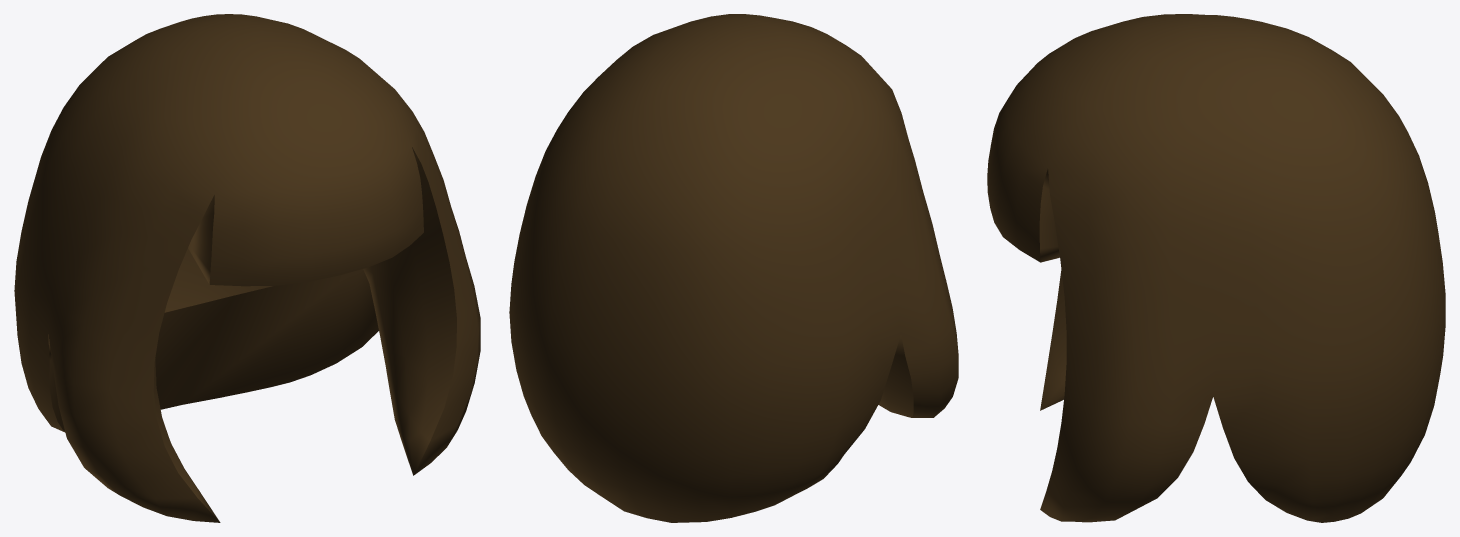
Rendered from hair_hair_083.gltf.
3 views of the same model, side by side, from view 1: azimuth 30°, elevation 25°; view 2: azimuth 150°, elevation 25°; view 3: azimuth 270°, elevation 25° (orthographic). The views are drawn at different scales.
Parts seen in each view (by area): view 1: hair.083; view 2: hair.083; view 3: hair.083.
Part boxes in pixels (left/top/right/bottom): hair.083: left=14, top=14, right=480, bottom=522; hair.083: left=509, top=14, right=958, bottom=522; hair.083: left=987, top=14, right=1445, bottom=522.
Bounding box in the file's own units: 0.8899 × 0.9129 × 0.829.
